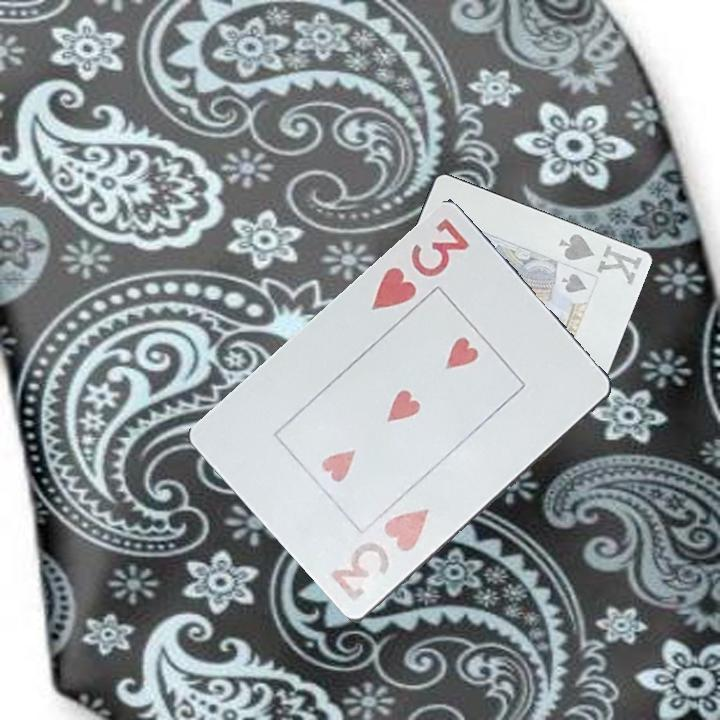3h: (367, 214, 473, 315), (326, 505, 432, 605)
Ks: (555, 230, 645, 288)
